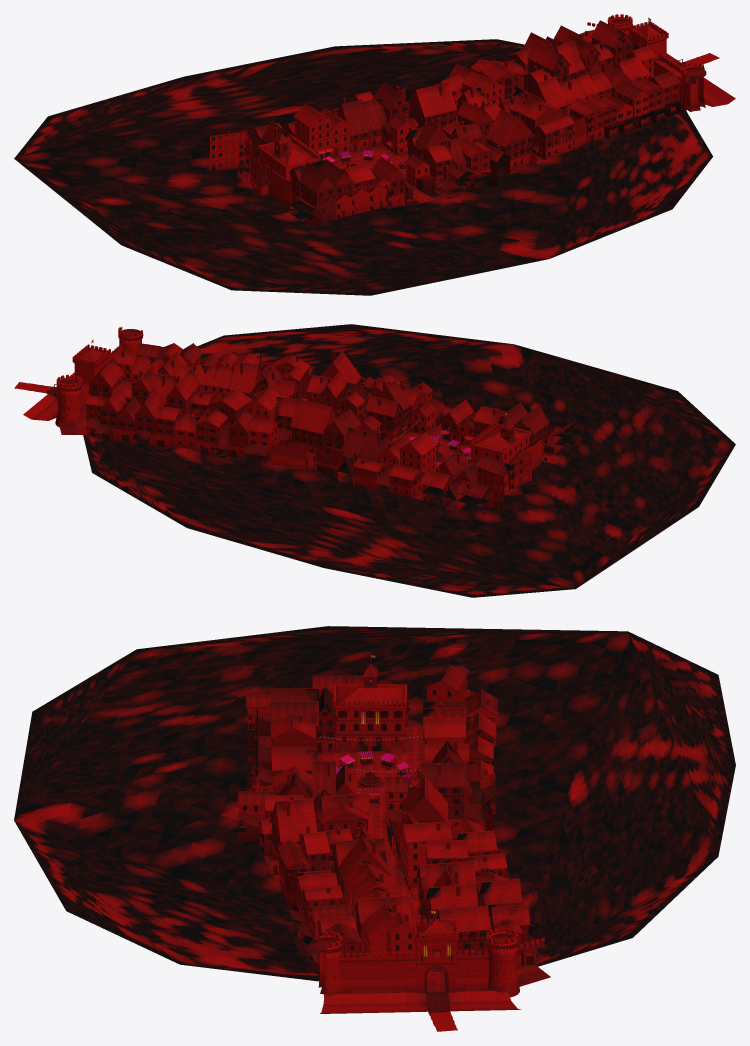
Rendered from centro.gltf.
3 views of the same model, one above another, from view 1: azimuth 30°, elevation 25°; view 2: azimuth 150°, elevation 25°; view 3: azimuth 270°, elevation 25° (orthographic). The views are drawn at different scales.
Parts seen in each view (by area): view 1: Zona_centro_2_-1, Zona_centro_0_0, Zona_centro_3_-1, Zona_centro_1_-1, Zona_centro_-2_0, Zona_centro_-2_-1, Zona_centro_-1_-2, Zona_centro_0_-2, Zona_centro_0_-1, Zona_centro_3_0, Zona_centro_-2_-2, Zona_centro_1_-2 (+42 smaller); view 2: Zona_centro_2_1, Zona_centro_3_1, Zona_centro_-2_0, Zona_centro_1_1, Zona_centro_0_1, Zona_centro_-1_1, Zona_centro_-2_-1, Zona_centro_0_-1, Zona_centro_-2_1, Zona_centro_2_0, Zona_centro_3_0, Zona_centro_1_0 (+43 smaller); view 3: Zona_centro_4_0, Zona_centro_-1_-1, Zona_centro_-1_0, Zona_centro_2_-1, Zona_centro_3_-1, Zona_centro_1_-2, Zona_centro_1_-1, Zona_centro_0_-3, Zona_centro_0_1, Zona_centro_-1_-2, Zona_centro_0_2, Zona_centro_-2_2 (+43 smaller).
Part boxes in pixels (x1,y1,x2,y2): Zona_centro_2_-1: (498, 76, 612, 166); Zona_centro_0_0: (320, 82, 416, 168); Zona_centro_3_-1: (570, 68, 684, 149); Zona_centro_1_-1: (443, 100, 542, 181); Zona_centro_-2_0: (166, 125, 281, 206); Zona_centro_-2_-1: (209, 131, 321, 239); Zona_centro_-1_-2: (321, 183, 435, 251); Zona_centro_0_-2: (394, 163, 510, 233); Zona_centro_0_-1: (354, 117, 465, 199); Zona_centro_3_0: (531, 32, 643, 84); Zona_centro_-2_-2: (247, 200, 365, 269); Zona_centro_1_-2: (465, 166, 582, 215); Zona_centro_2_1: (132, 407, 248, 484); Zona_centro_3_1: (82, 370, 177, 468); Zona_centro_-2_0: (463, 413, 576, 524); Zona_centro_1_1: (203, 423, 321, 503); Zona_centro_0_1: (279, 445, 390, 519); Zona_centro_-1_1: (350, 465, 462, 535); Zona_centro_-2_-1: (510, 414, 618, 494); Zona_centro_0_-1: (365, 379, 470, 454); Zona_centro_-2_1: (421, 480, 532, 554); Zona_centro_2_0: (176, 361, 288, 431); Zona_centro_3_0: (109, 354, 220, 408); Zona_centro_1_0: (249, 390, 337, 473); Zona_centro_4_0: (367, 906, 483, 1014); Zona_centro_-1_-1: (251, 661, 379, 782); Zona_centro_-1_0: (364, 654, 483, 784); Zona_centro_2_-1: (256, 824, 373, 922); Zona_centro_3_-1: (254, 869, 372, 969); Zona_centro_1_-2: (143, 811, 267, 879); Zona_centro_1_-1: (253, 780, 372, 877); Zona_centro_0_-3: (33, 779, 162, 835); Zona_centro_0_1: (473, 760, 590, 833); Zona_centro_-1_-2: (145, 709, 261, 788); Zona_centro_0_2: (585, 778, 698, 834); Zona_centro_-2_2: (580, 688, 699, 742).
Size of what is drawn, in the model's own units: 221 by 22.78 by 166.
62 materials, 36 textured.
